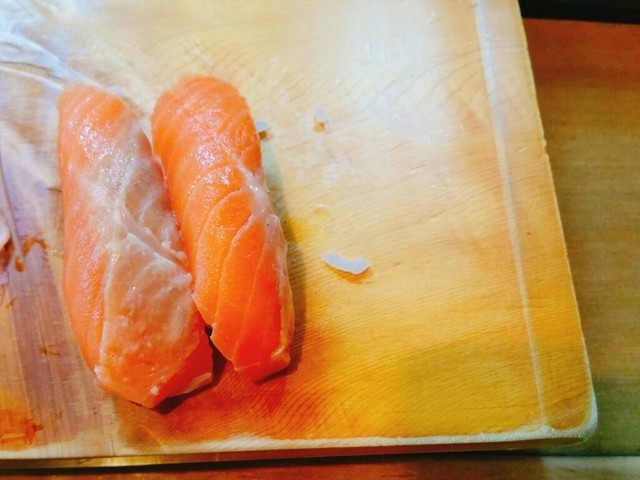salmon: (56, 77, 304, 402)
